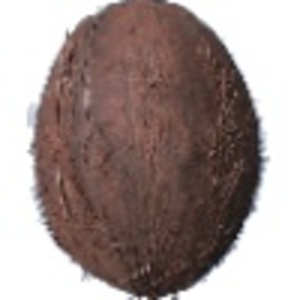coco: (29, 1, 267, 300)
